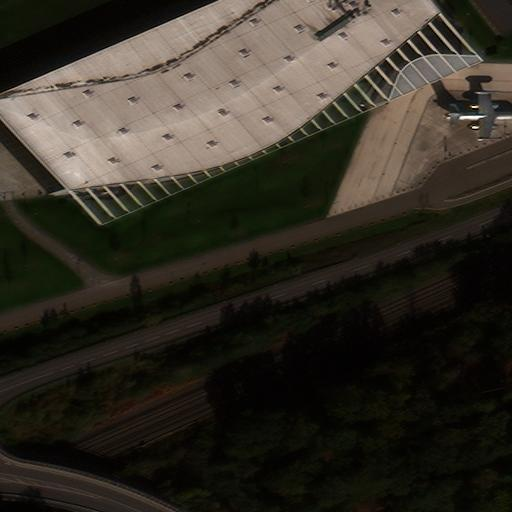Military Transport: (447, 93, 512, 138)
